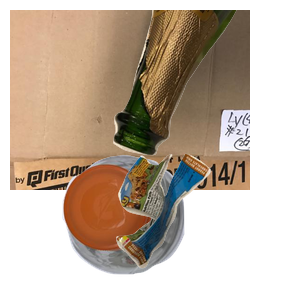cardboard: (10, 10, 250, 190)
glass: (111, 10, 300, 158)
plastic: (60, 152, 237, 300)
trash: (114, 151, 300, 300)
